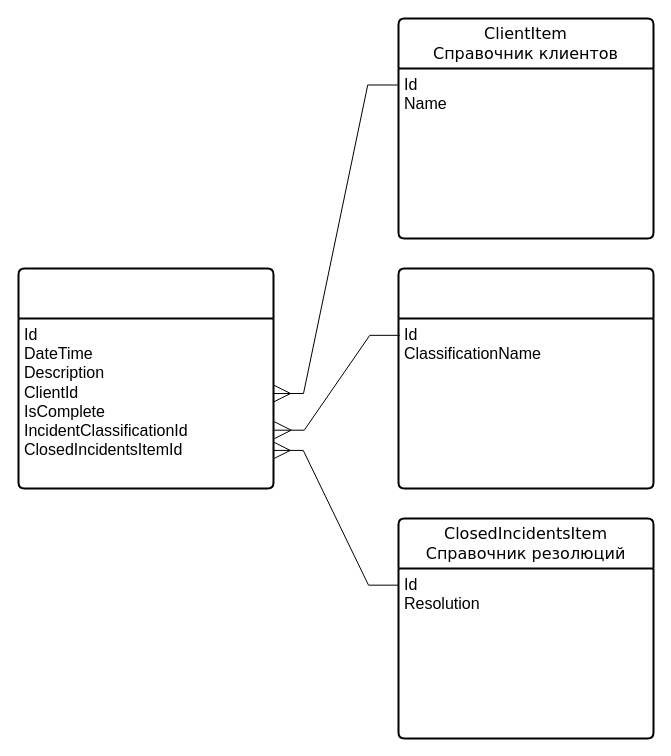
Image size: 671x756. Some labels were removed from this diagram. The shapes that lost their labels are listed below. From the top down, each one's box as (x1, y1, x2, y2) in pixels, then its label:
(17, 267, 274, 489): IncidentItem Справочник инцидентов
(397, 267, 654, 489): IncidentClassification Справочник классификаций
